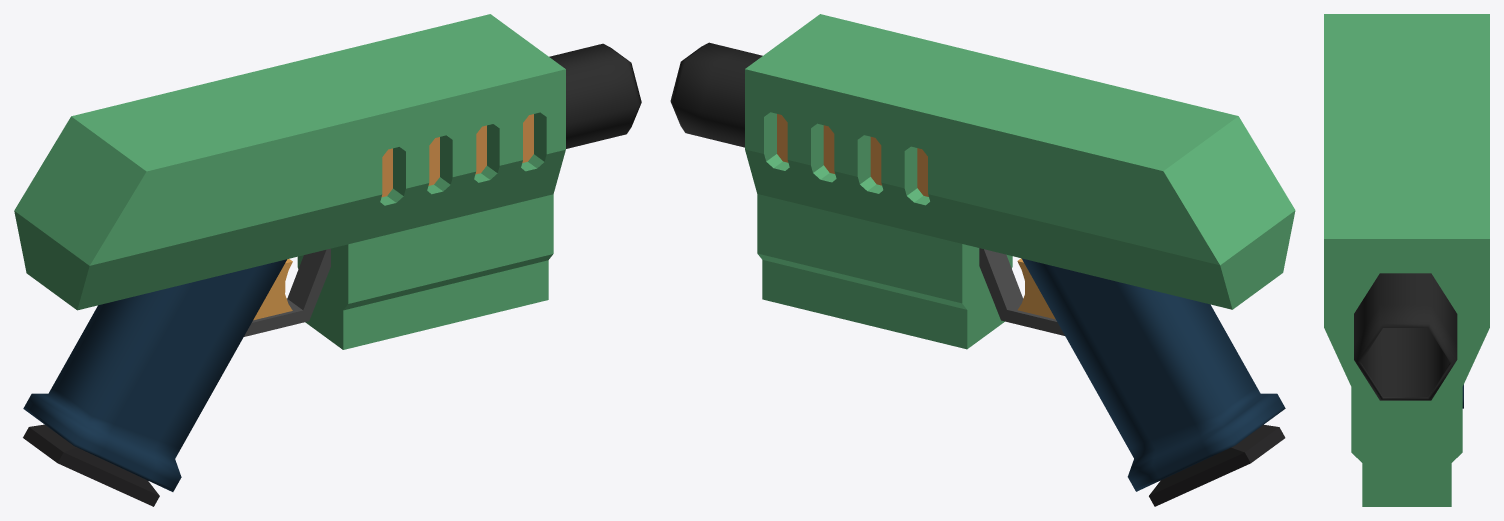
Rendered from PistolaV2.fbx.
3 views of the same model, side by side, from view 1: azimuth 30°, elevation 25°; view 2: azimuth 150°, elevation 25°; view 3: azimuth 270°, elevation 25° (orthographic). The views are drawn at different scales.
Parts seen in each view (by area): view 1: Cube.005, Cylinder.002, Cylinder.003, Cube.003, Plane.009, Plane.011; view 2: Cube.005, Cylinder.002, Cylinder.003, Cube.003, Plane.009, Plane.011; view 3: Cube.005, Cylinder.003.
Boxes of the visible parts, x1,y1,x2,y2 form: Cube.005: [14, 14, 565, 349]; Cylinder.002: [23, 259, 286, 491]; Cylinder.003: [549, 43, 641, 148]; Cube.003: [23, 424, 159, 506]; Plane.009: [244, 248, 330, 336]; Plane.011: [253, 259, 292, 320]; Cube.005: [745, 14, 1295, 349]; Cylinder.002: [1021, 258, 1285, 491]; Cylinder.003: [670, 42, 762, 147]; Cube.003: [1149, 425, 1285, 506]; Plane.009: [979, 248, 1064, 335]; Plane.011: [1017, 258, 1055, 319]; Cube.005: [1324, 14, 1489, 506]; Cylinder.003: [1354, 273, 1457, 400].
Bounding box in the file's own units: 100 × 59.04 × 22.57.
